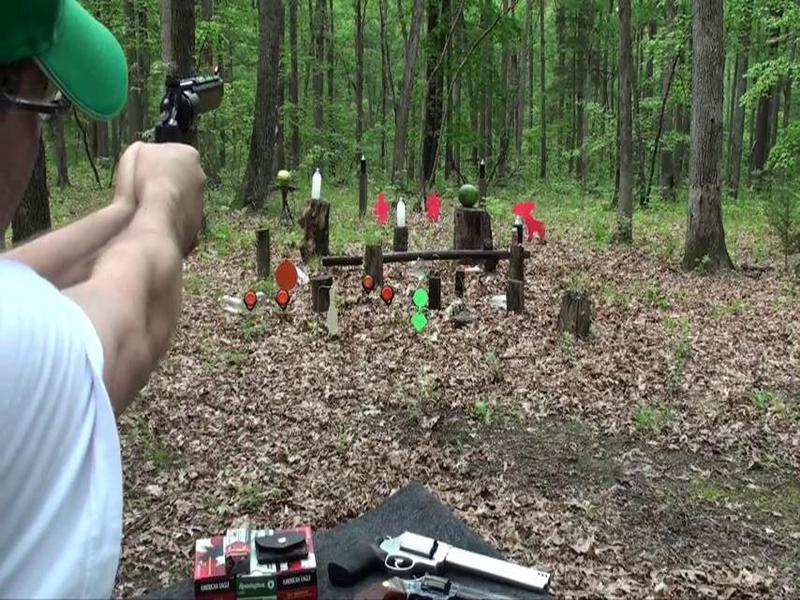Revolver: (155, 62, 230, 164)
